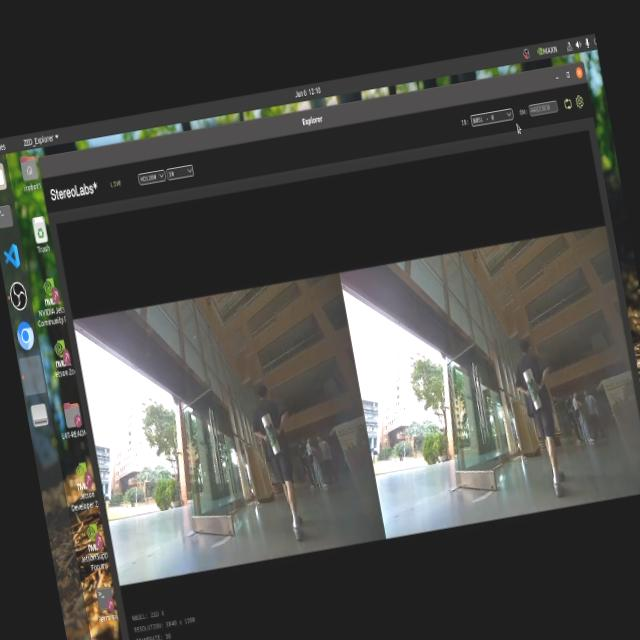green: (260, 416, 282, 452), (520, 374, 540, 408)
